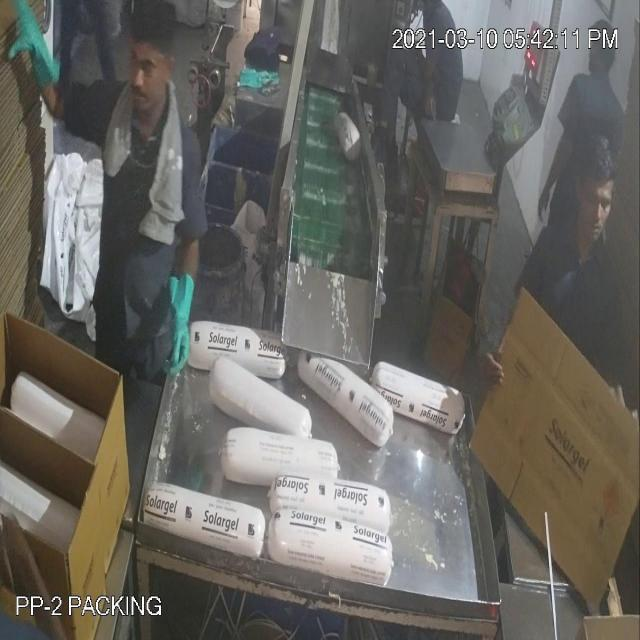No_Gloves: (38, 50, 553, 324)
